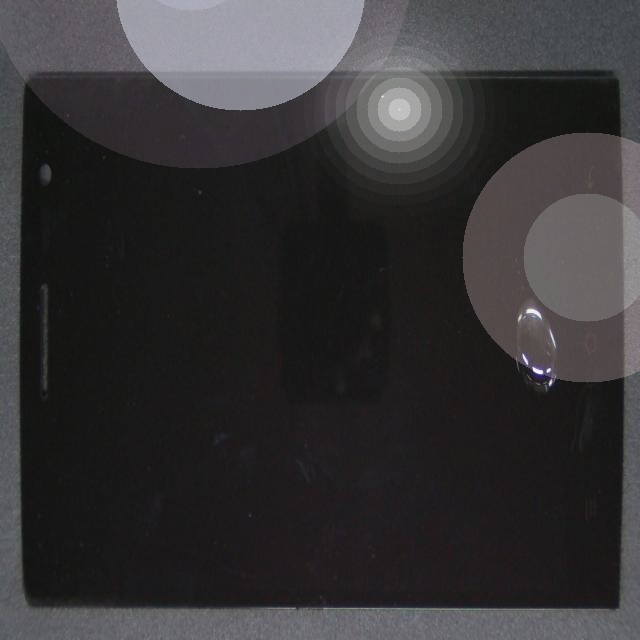oil: (300, 176, 640, 472)
